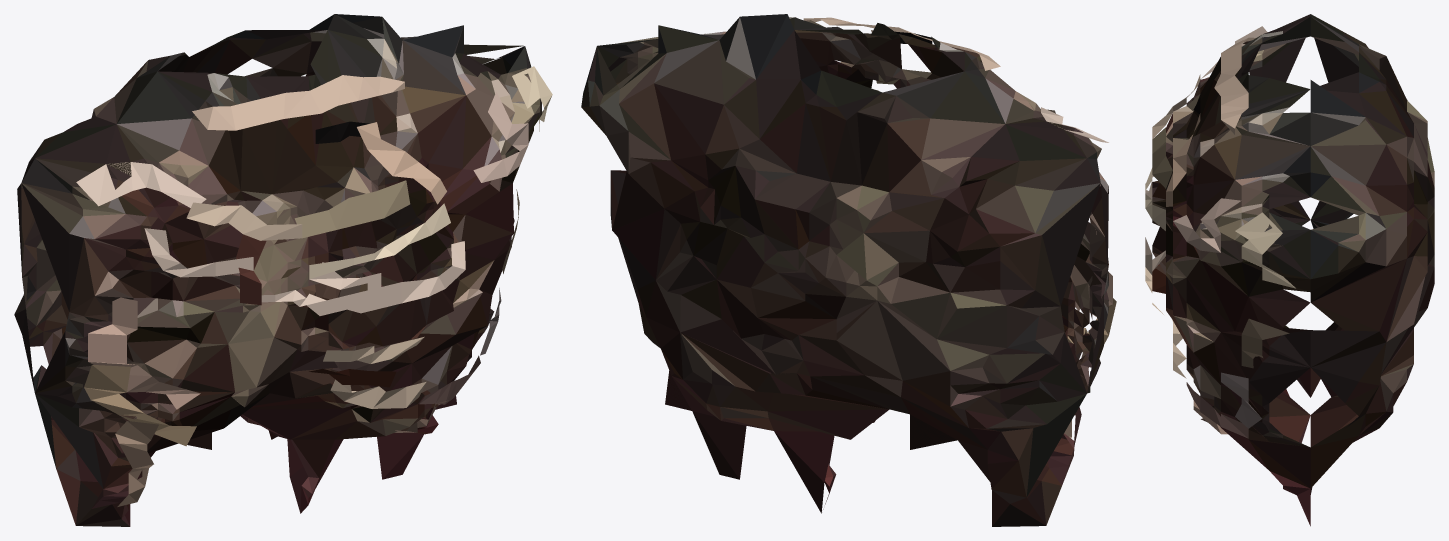
Rendered from B04_5_ribcage_platebody.obj.
3 views of the same model, side by side, from view 1: azimuth 30°, elevation 25°; view 2: azimuth 150°, elevation 25°; view 3: azimuth 270°, elevation 25° (orthographic). The views are drawn at different scales.
Visible parts, largest first — view 1: B04_5_ribcage_platebody; view 2: B04_5_ribcage_platebody; view 3: B04_5_ribcage_platebody.
Part boxes in pixels (box(x1,y1,x2,y2)): B04_5_ribcage_platebody: box(14, 14, 552, 526); B04_5_ribcage_platebody: box(581, 14, 1116, 526); B04_5_ribcage_platebody: box(1145, 14, 1434, 526).
Bounding box in the file's own units: 76 × 69 × 42.
